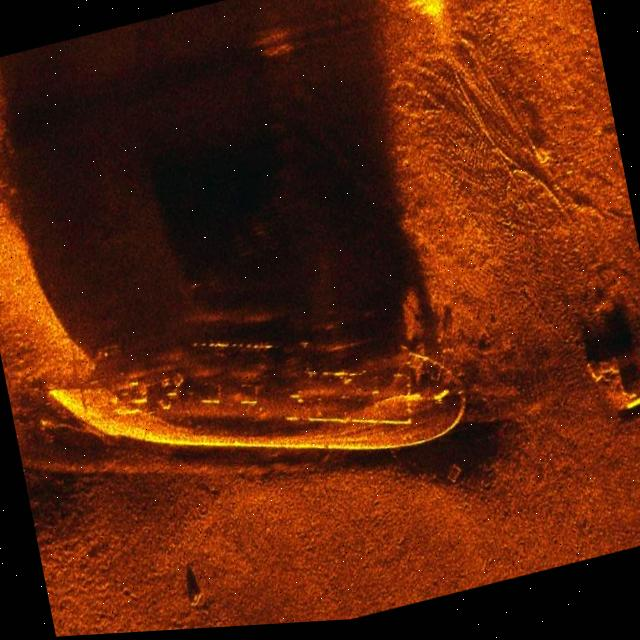shipwreck: (37, 243, 480, 551)
